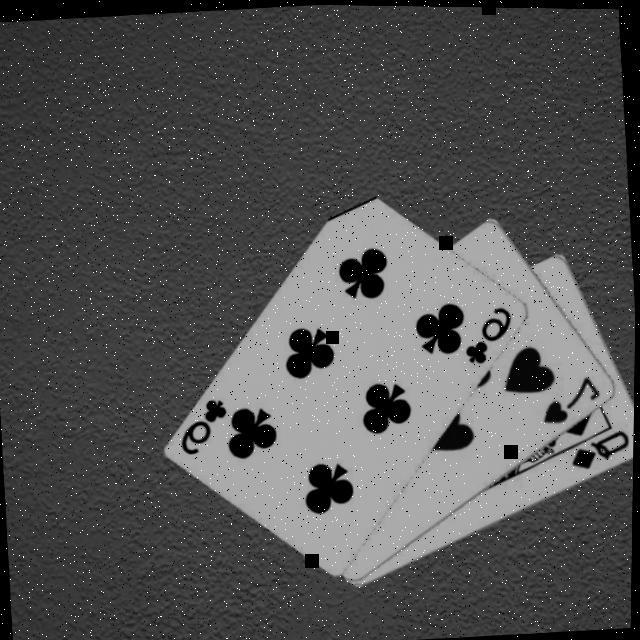6C: (459, 302, 519, 369), (175, 394, 234, 461)
7H: (538, 371, 606, 428)
QD: (566, 426, 636, 474)
